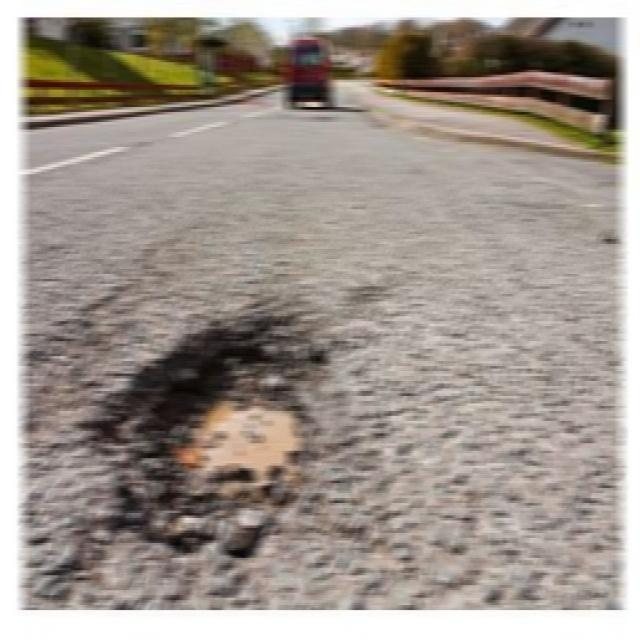Pothole: (79, 320, 335, 560)
